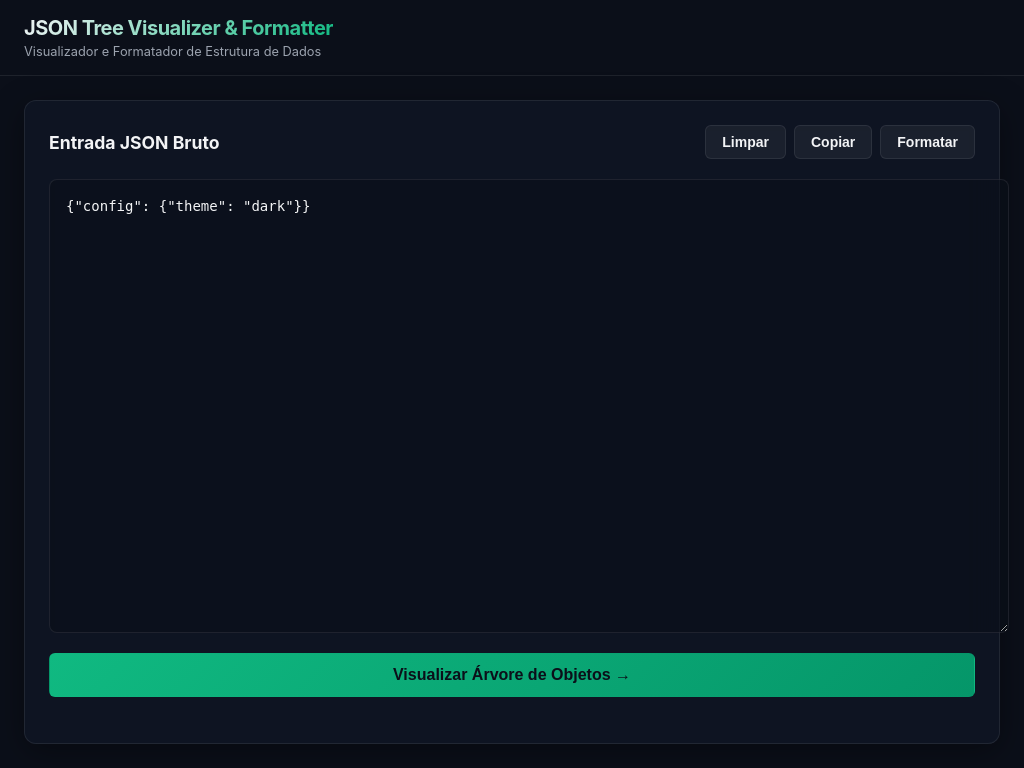
Test: JsonVisualizer Component › should select a node and render its details in the right panel
# Clica no botão para visualizar a árvore
Click the button "Visualizar Árvore de Objetos →" at (512, 675), box [49,653,975,697]
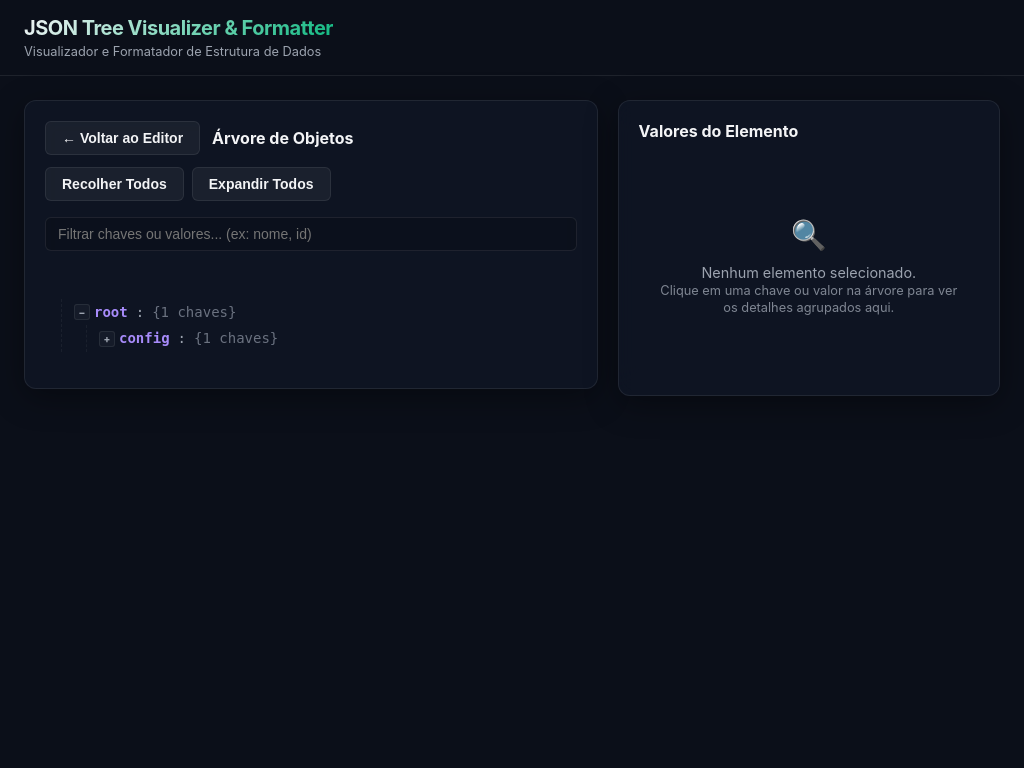
expect the text "config" is shown: met
expect the text "Nenhum elemento selecionado" is shown: met, box [701,264,916,281]
# Seleciona o nó config ao clicar no seu texto/chave
Click the text "config" at (144, 339), box [119,327,170,350]
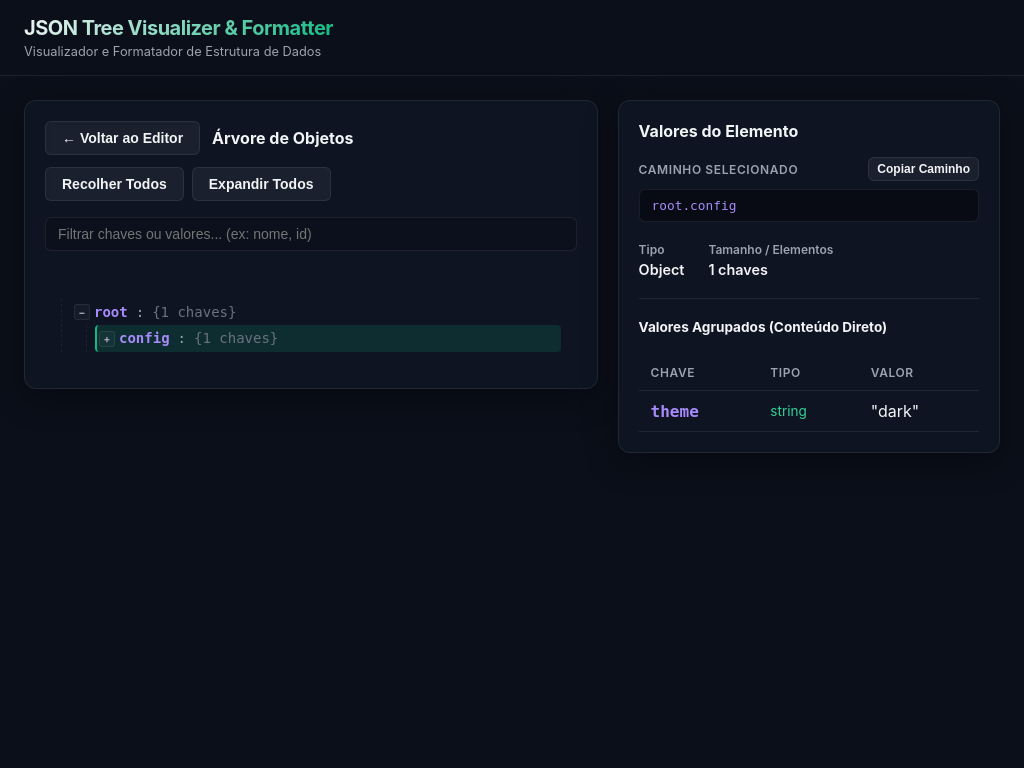
expect the text "root.config" is shown: met, box [639,189,979,222]
expect the text "object" is shown: met, box [639,261,684,278]
expect the text "theme" is shown: met, box [639,390,758,432]
